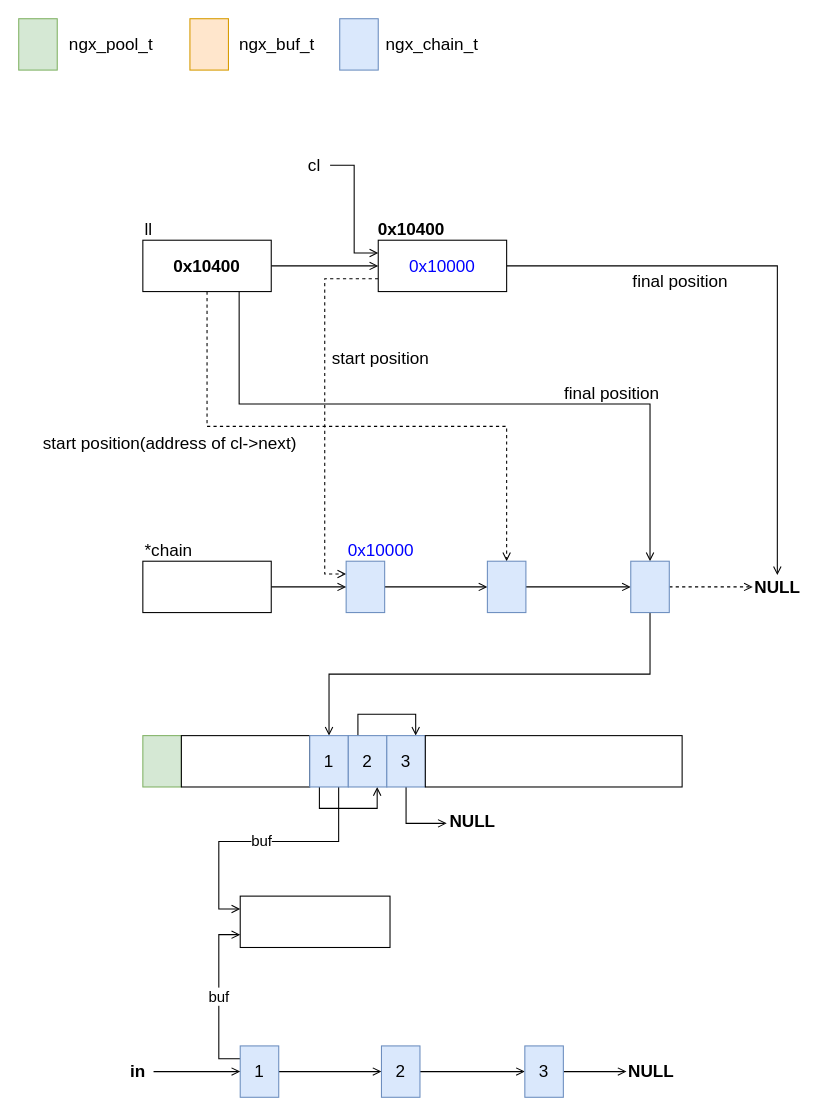
Image size: 836x1116. Some labels were removed from this diagram. Each missing label, with the box of its shape:
Available: (424, 735, 682, 787)
Memory Exists: (239, 895, 390, 947)
Used: (180, 735, 310, 787)
